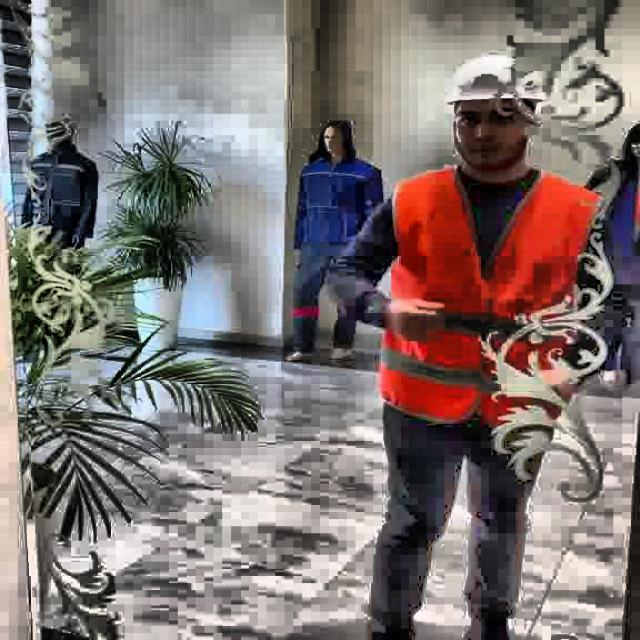safety_helmet: (446, 54, 550, 102)
safety_jacket: (376, 163, 610, 425)
